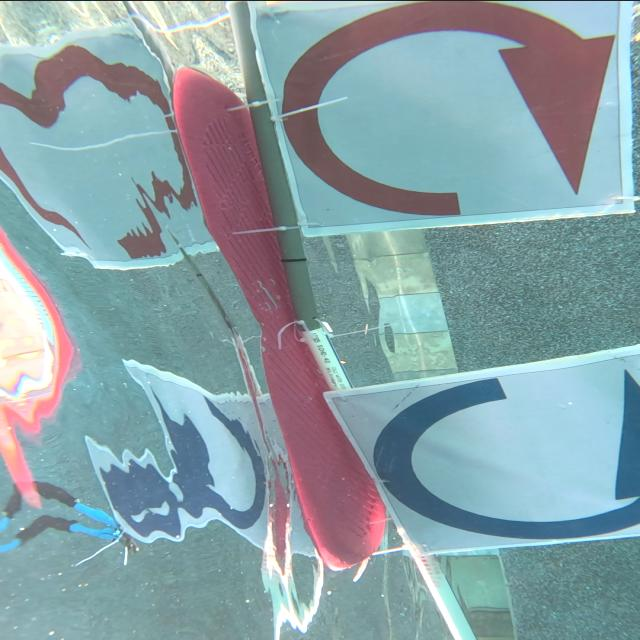blue_side: (360, 370, 640, 542)
red_side: (280, 0, 640, 213)
